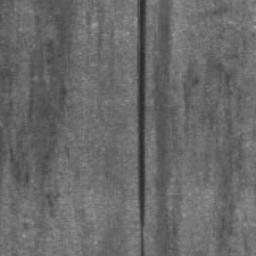Scratches: (137, 0, 146, 256)
